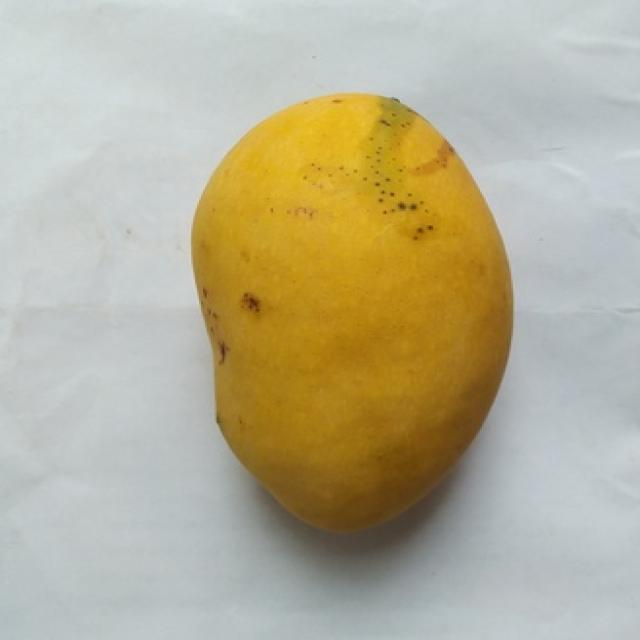Mango: (191, 94, 511, 530)
